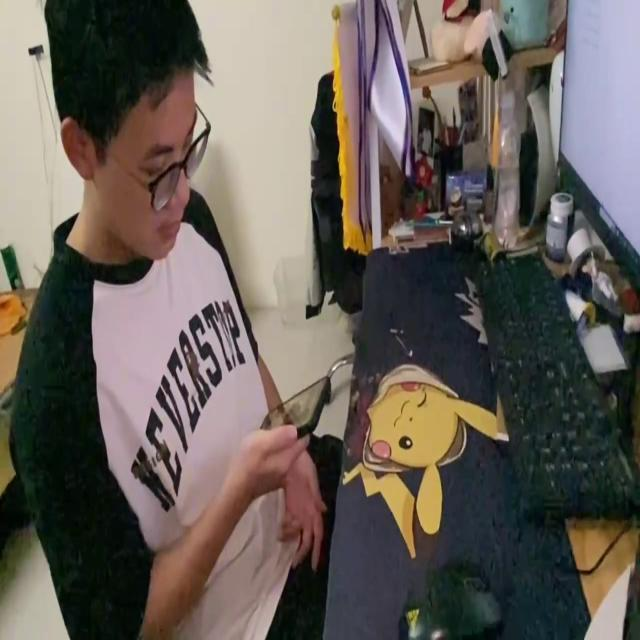laptop: (555, 0, 640, 307)
phone: (258, 372, 332, 436)
student: (10, 0, 339, 640)
